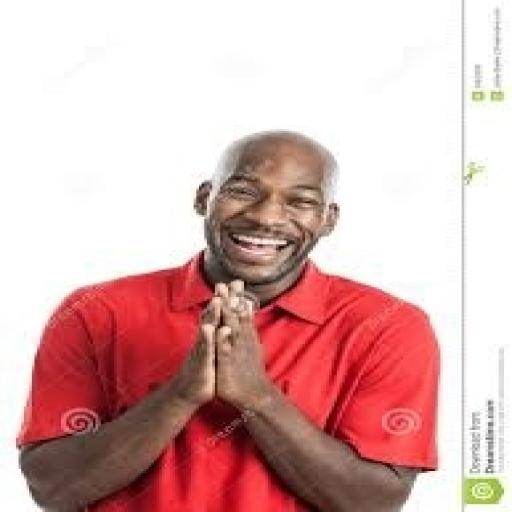laughing: (13, 123, 443, 510)
